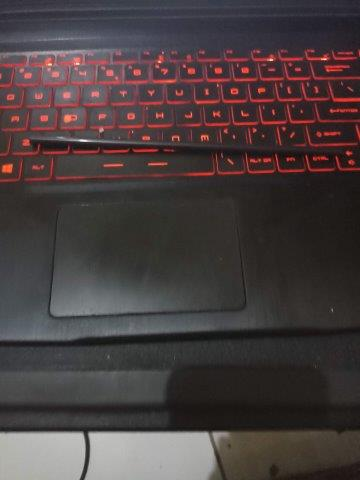sedotan: (30, 135, 341, 156)
